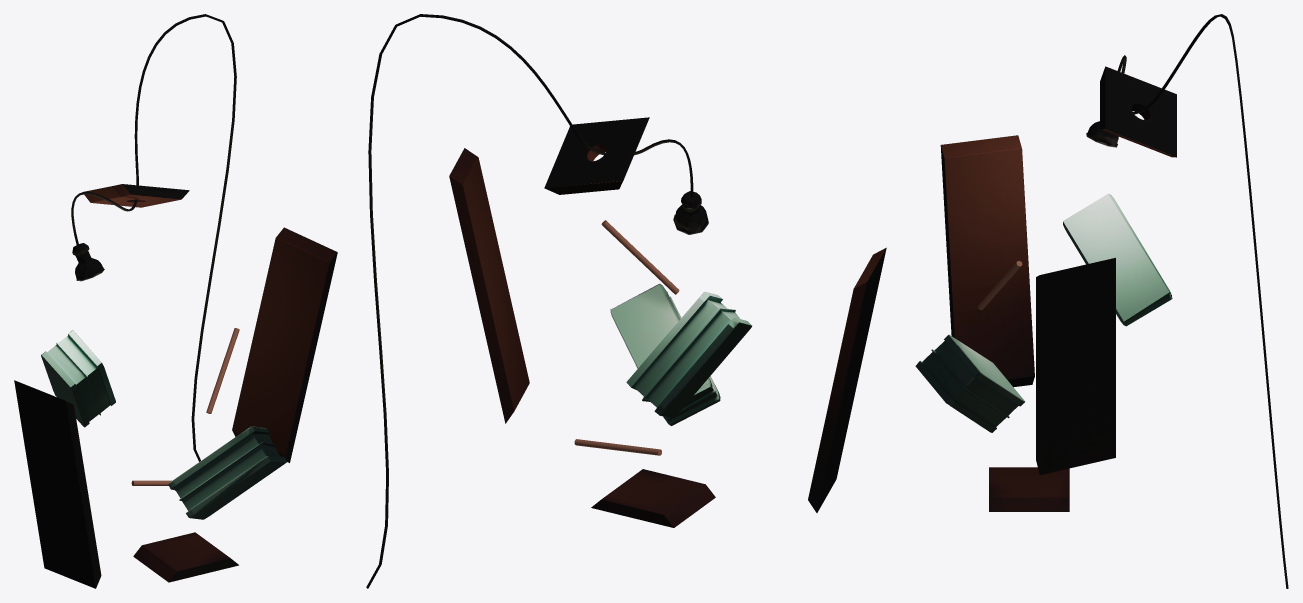
Rendered from ambience-of-light.gltf.
3 renders of one model, left to right at view 1: azimuth 30°, elevation 25°; view 2: azimuth 150°, elevation 25°; view 3: azimuth 270°, elevation 25°, orthographic. The views are drawn at different scales.
Visible parts, largest first — view 1: wood-frame-right.001, wood-frame-left.001, glassBrick02.004, glassBrick01.004, wood-frame-bottom.001, led-light-wire-curve.001, wood-frame-top.001, led-light-socket.001, wood-stick-front.001; view 2: wood-frame-right.001, glassBrick01.004, wood-frame-left.001, wood-frame-top.001, wood-frame-bottom.001, glassBrick02.004, led-light-wire-curve.001, led-light-socket.001, wood-stick-front.001; view 3: wood-frame-left.001, wood-frame-right.001, glassBrick01.004, glassBrick02.004, wood-frame-top.001, wood-frame-bottom.001, led-light-wire-curve.001.
Boxes of the visible parts, <box> form: wood-frame-right.001: <box>232,227,337,462</box>; wood-frame-left.001: <box>14,380,101,588</box>; glassBrick02.004: <box>168,426,287,519</box>; glassBrick01.004: <box>41,330,115,427</box>; wood-frame-bottom.001: <box>133,532,238,582</box>; led-light-wire-curve.001: <box>71,14,236,461</box>; wood-frame-top.001: <box>82,184,189,207</box>; led-light-socket.001: <box>72,243,104,281</box>; wood-stick-front.001: <box>206,328,239,413</box>; wood-frame-right.001: <box>449,148,529,423</box>; glassBrick01.004: <box>626,291,751,418</box>; wood-frame-left.001: <box>808,247,886,512</box>; wood-frame-top.001: <box>544,117,649,194</box>; wood-frame-bottom.001: <box>591,469,715,527</box>; glassBrick02.004: <box>610,283,720,425</box>; led-light-wire-curve.001: <box>366,14,693,588</box>; led-light-socket.001: <box>673,191,708,234</box>; wood-stick-front.001: <box>601,220,679,294</box>; wood-frame-left.001: <box>940,135,1034,387</box>; wood-frame-right.001: <box>1036,257,1115,474</box>; glassBrick01.004: <box>1063,193,1172,326</box>; glassBrick02.004: <box>915,334,1025,432</box>; wood-frame-top.001: <box>1100,66,1176,157</box>; wood-frame-bottom.001: <box>989,467,1069,511</box>; led-light-wire-curve.001: <box>1117,14,1288,588</box>.
Size of the model in its own units: 10.32 by 14.16 by 8.8.
4 materials, 3 textured.
